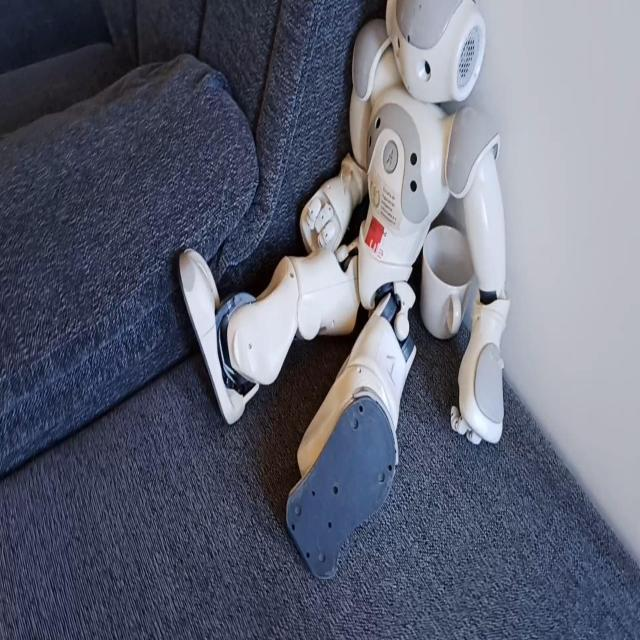cup: (418, 217, 478, 345)
